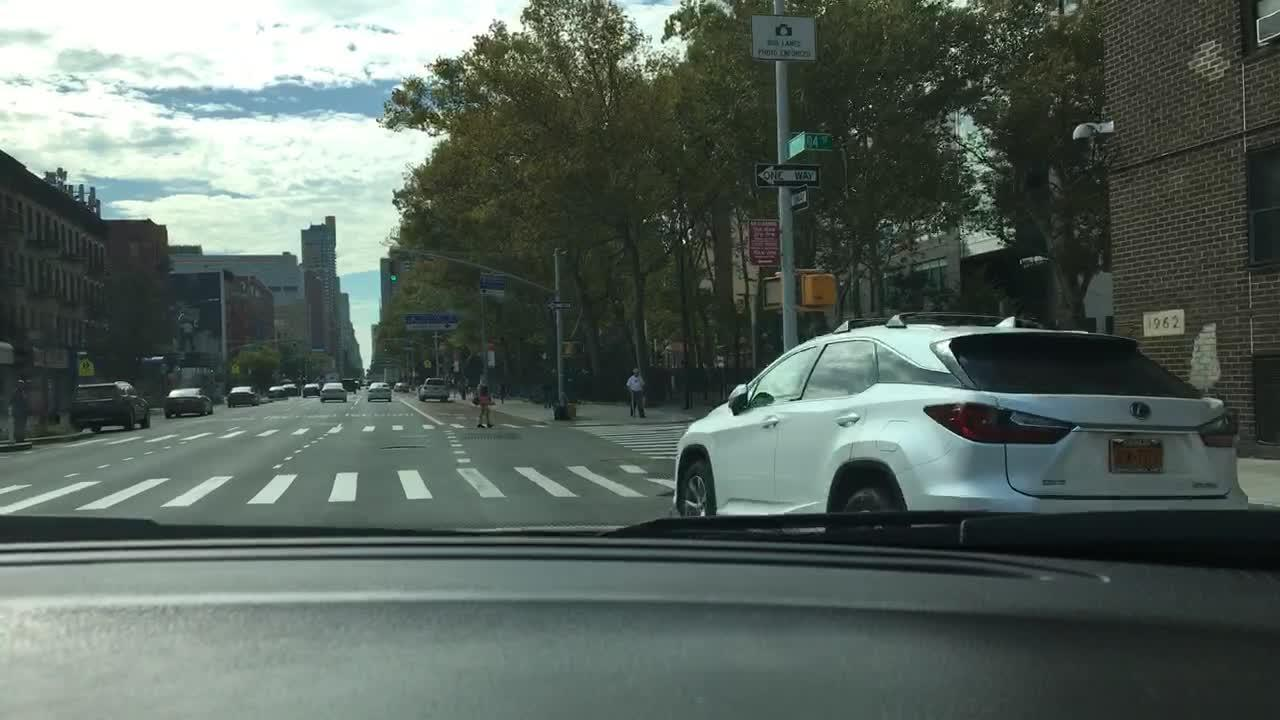lexus: (1121, 396, 1159, 427)
